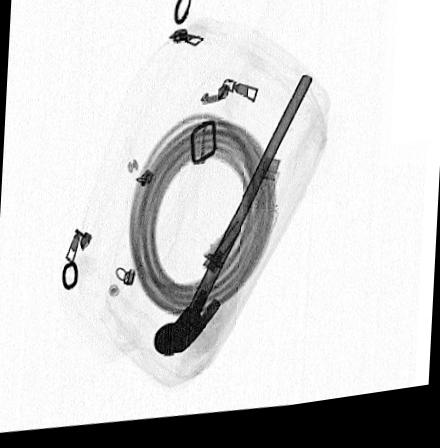Hammer: (153, 81, 313, 361)
